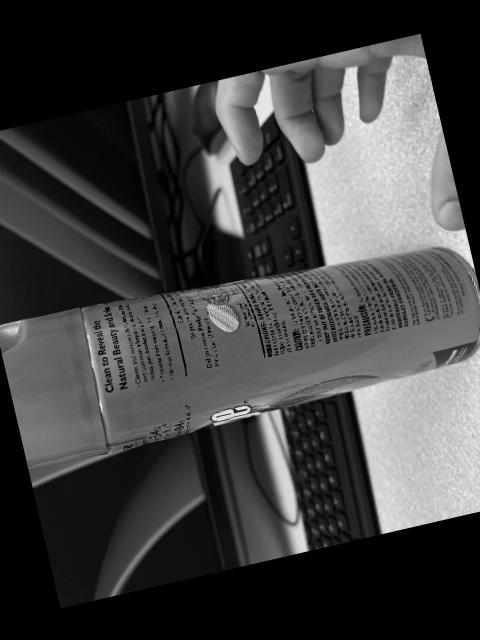Pledge: (0, 245, 480, 470)
